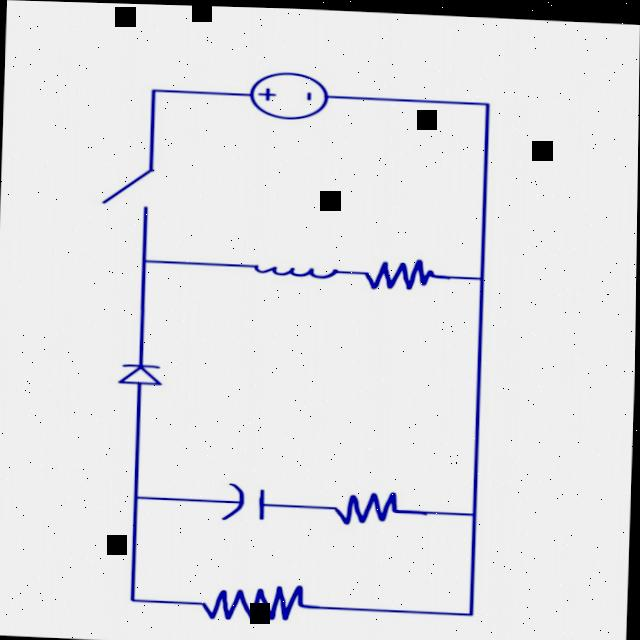capacitor: (207, 470, 281, 529)
diode: (108, 348, 176, 402)
inductor: (232, 250, 343, 283)
resistor: (179, 565, 321, 627), (302, 482, 419, 532), (354, 245, 441, 298)
source: (241, 61, 341, 131)
switch: (84, 151, 176, 231)
